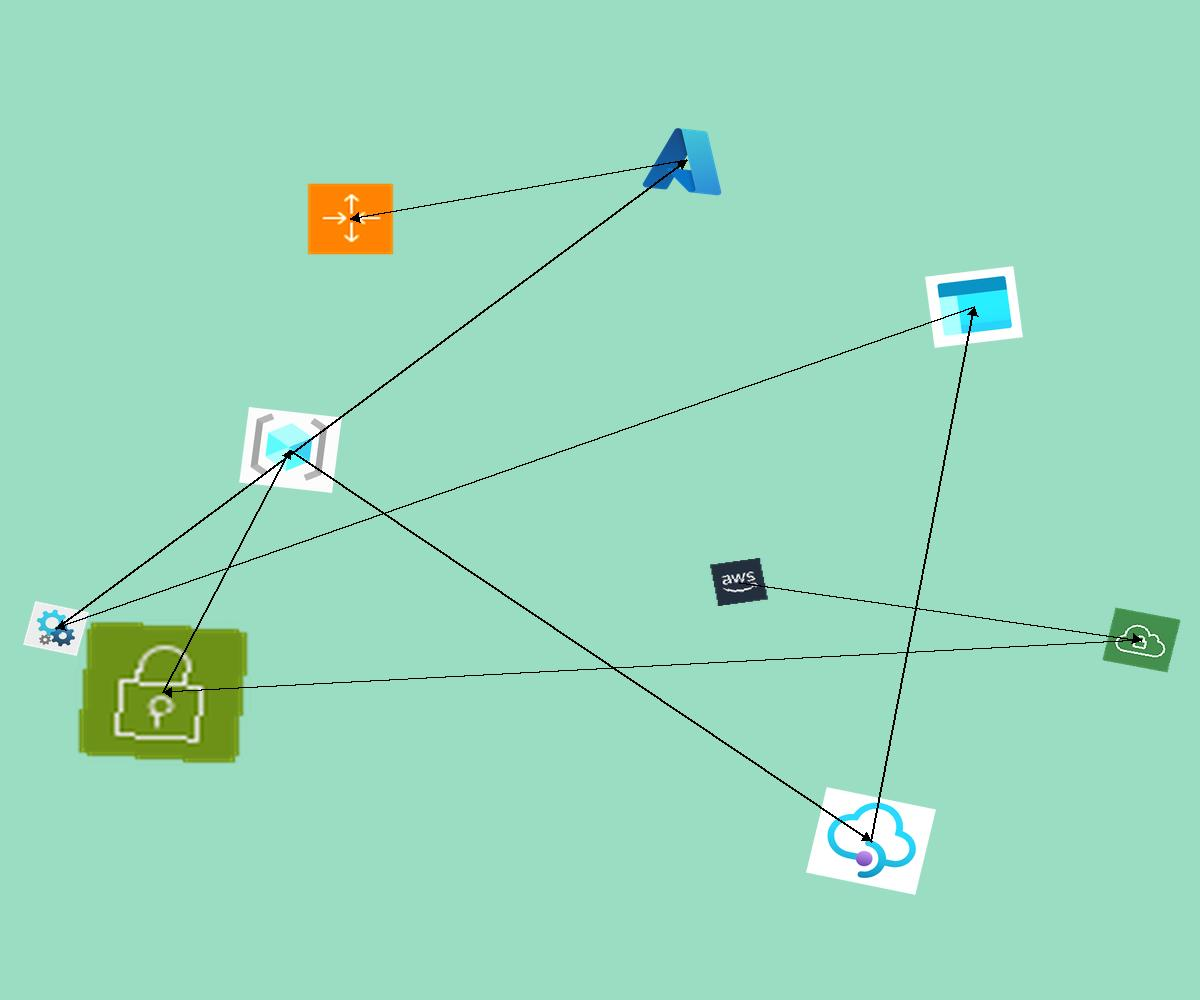AWS-Cloud-logo: (709, 557, 769, 607)
AWS-Private_vpc: (1102, 607, 1181, 673)
AWS-Public-subnet: (75, 619, 251, 766)
AWS-Scaling-group: (306, 182, 395, 256)
Azure_api: (23, 601, 89, 656)
Azure_api_gateway: (806, 787, 936, 895)
Azure_management-portal: (925, 266, 1023, 348)
Azure_resource_group: (239, 407, 342, 493)
Azure_services: (638, 120, 735, 201)
